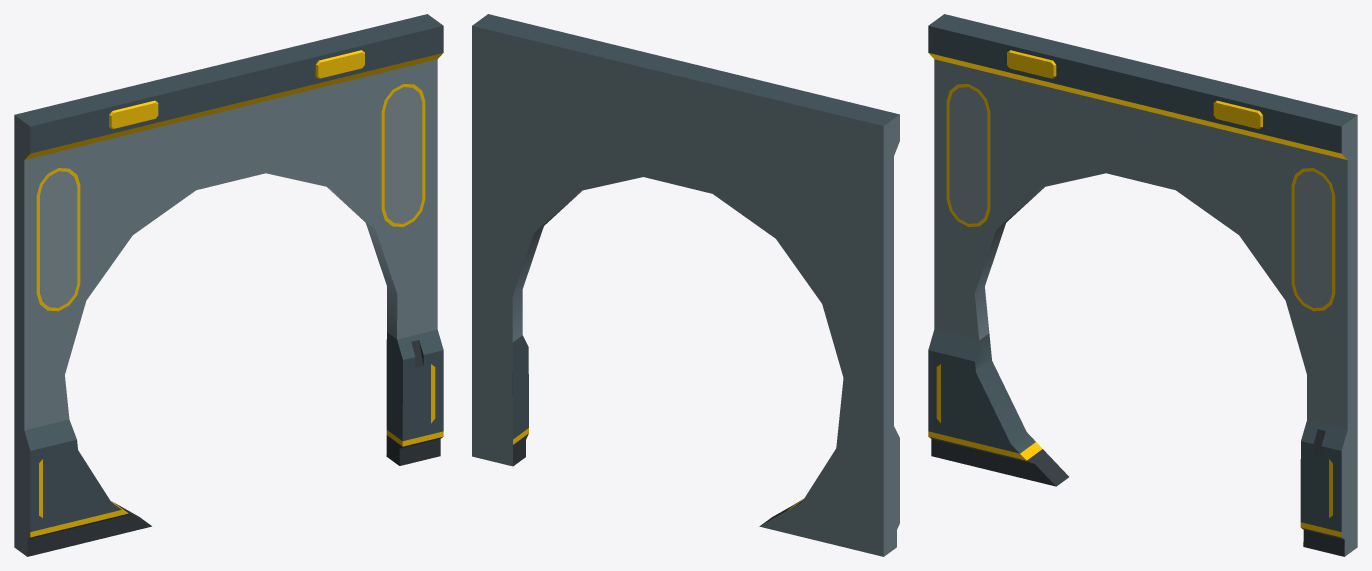
The model's file is Wall_type_C_056.fbx.
3 renders of one model, left to right at view 1: azimuth 30°, elevation 25°; view 2: azimuth 150°, elevation 25°; view 3: azimuth 330°, elevation 25°, orthographic.
Visible parts, largest first — view 1: Wall_type_C_056; view 2: Wall_type_C_056; view 3: Wall_type_C_056.
Part boxes in pixels (<box>): Wall_type_C_056: <box>14,14,443,556</box>; Wall_type_C_056: <box>472,14,899,556</box>; Wall_type_C_056: <box>928,14,1357,556</box>.
Bounding box in the file's own units: 400 × 28.98 × 400.
